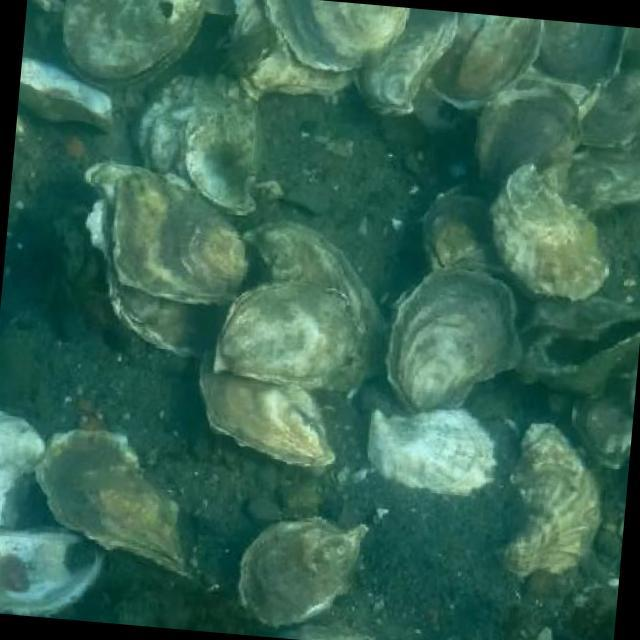Oyster- Indeterminate: (243, 222, 389, 390), (34, 430, 187, 575), (388, 266, 524, 413), (113, 174, 265, 303), (137, 74, 259, 212), (214, 281, 364, 388), (199, 350, 331, 467), (494, 167, 610, 300), (499, 423, 601, 574), (239, 518, 365, 627), (476, 72, 579, 197), (61, 0, 204, 87), (235, 0, 358, 97), (370, 410, 501, 496), (357, 7, 455, 113), (265, 0, 409, 68), (419, 193, 513, 273), (540, 18, 627, 87), (0, 410, 46, 515), (580, 70, 640, 149), (566, 152, 640, 210), (576, 393, 633, 467)
Oyster-Closed: (424, 11, 542, 109)
